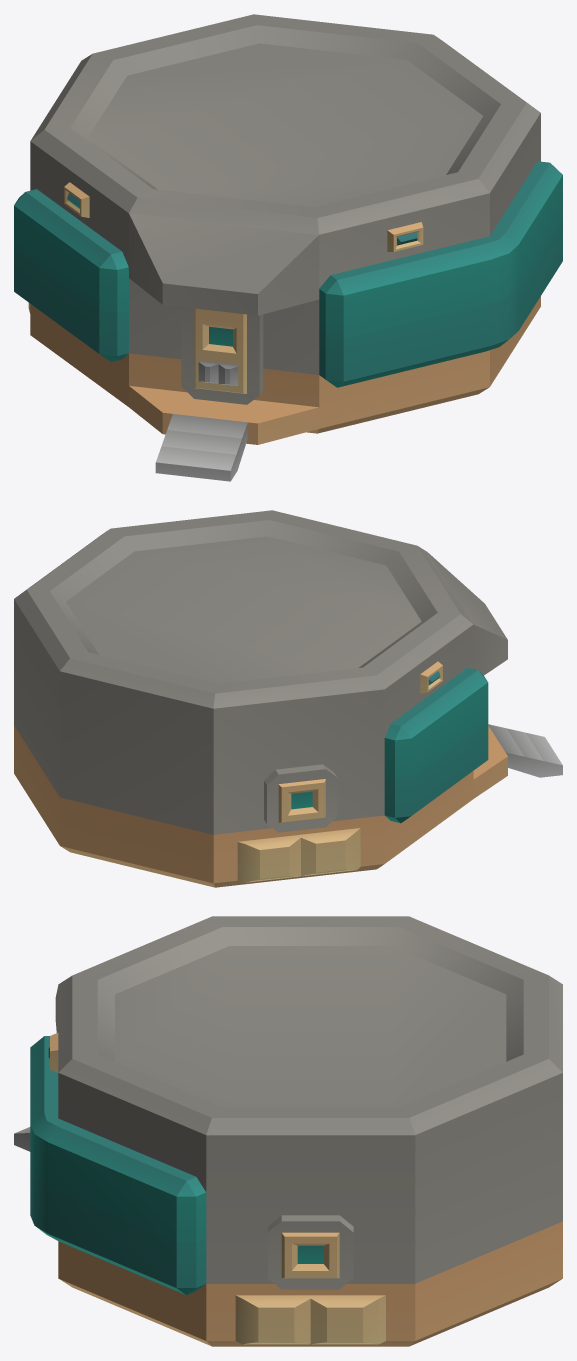
File: pulse_turret.glb
3 renders of one model, top to bottom at view 1: azimuth 30°, elevation 25°; view 2: azimuth 150°, elevation 25°; view 3: azimuth 270°, elevation 25°, orthographic. The views are drawn at different scales.
Size of the model in its own units: 2.25 by 1 by 2.18.
